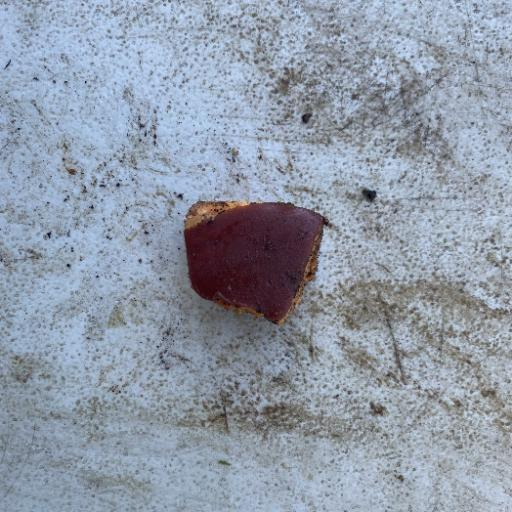Waste: (182, 198, 329, 326)
